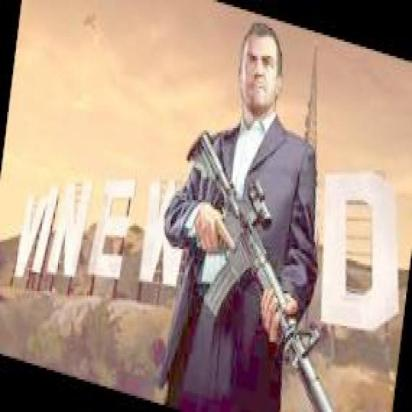Gun: (184, 128, 336, 412)
